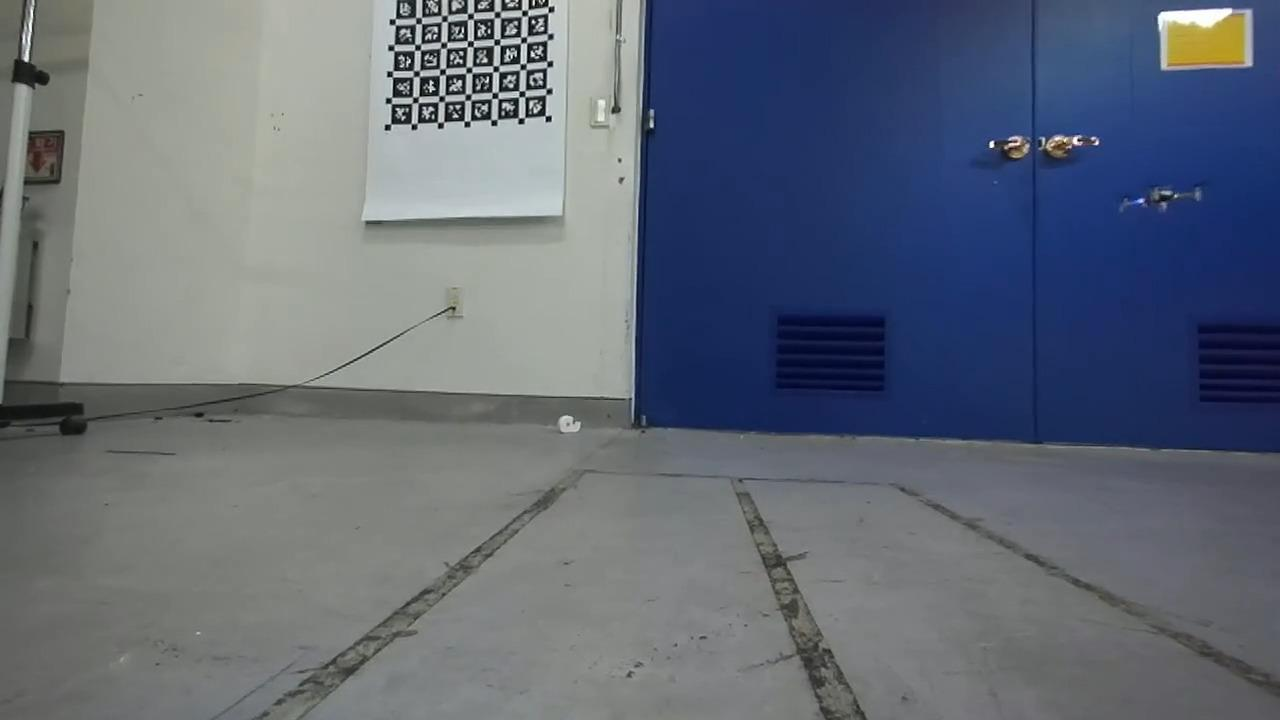crazyflie: (1113, 178, 1205, 218)
